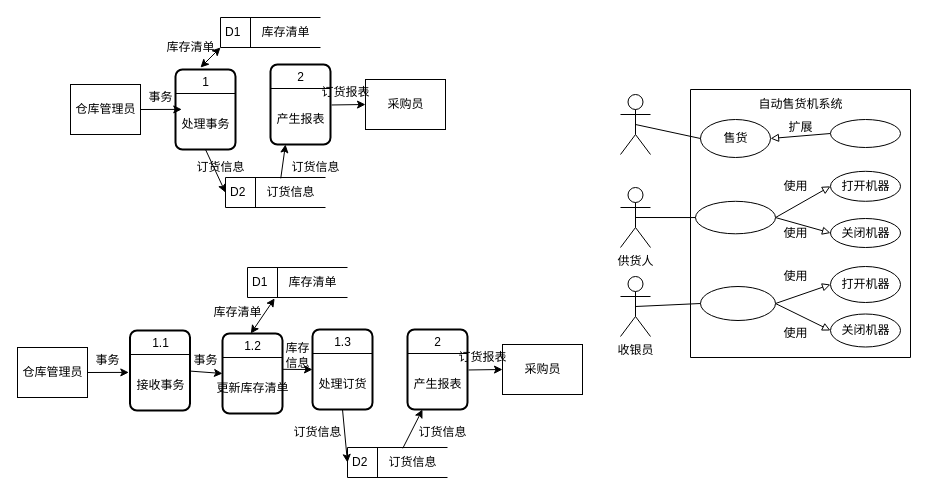
The diagram is 928 pixels wide and 495 high, and some of its shapes have lost their labels. Each missing label, with the centre of its shape:
供货: the point at 735,217
取货款: the point at 738,303
售散装饮料: the point at 865,133
顾客: the point at 635,124
